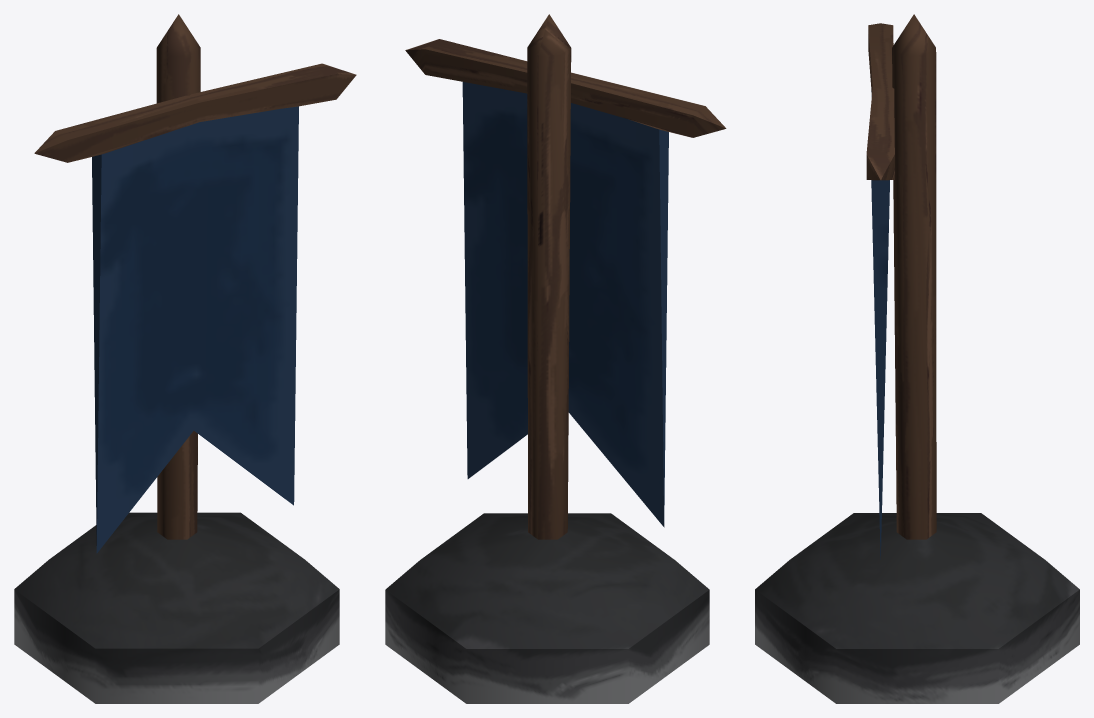
Rendered from SM_PROP_map_miniature_battle_01.fbx.
3 renders of one model, left to right at view 1: azimuth 30°, elevation 25°; view 2: azimuth 150°, elevation 25°; view 3: azimuth 270°, elevation 25°, orthographic.
Visible parts, largest first — view 1: SM_PROP_map_miniature_battle_01; view 2: SM_PROP_map_miniature_battle_01; view 3: SM_PROP_map_miniature_battle_01.
Boxes of the visible parts, bbox=[...] form: SM_PROP_map_miniature_battle_01: bbox=[14, 14, 356, 703]; SM_PROP_map_miniature_battle_01: bbox=[385, 14, 726, 703]; SM_PROP_map_miniature_battle_01: bbox=[755, 14, 1079, 703].
Size of the model in its own units: 11.27 by 21.08 by 9.85.
